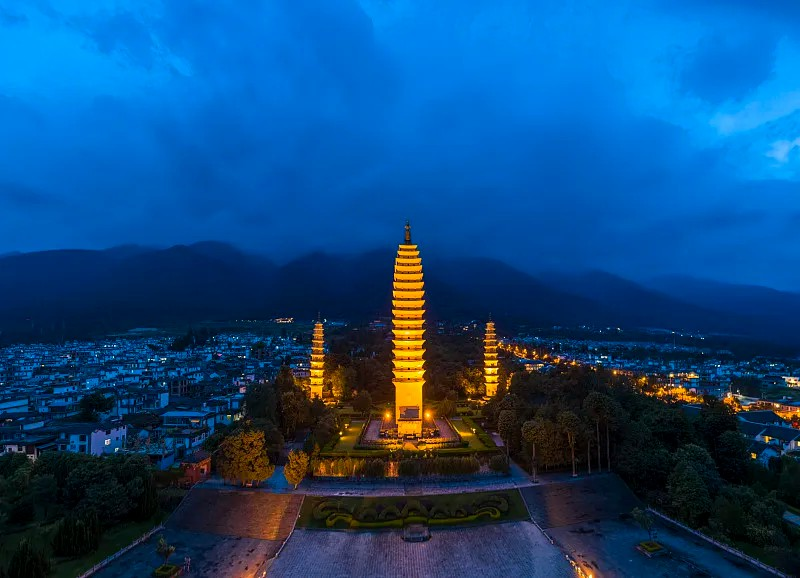ThreePagoda: (390, 220, 426, 424)
